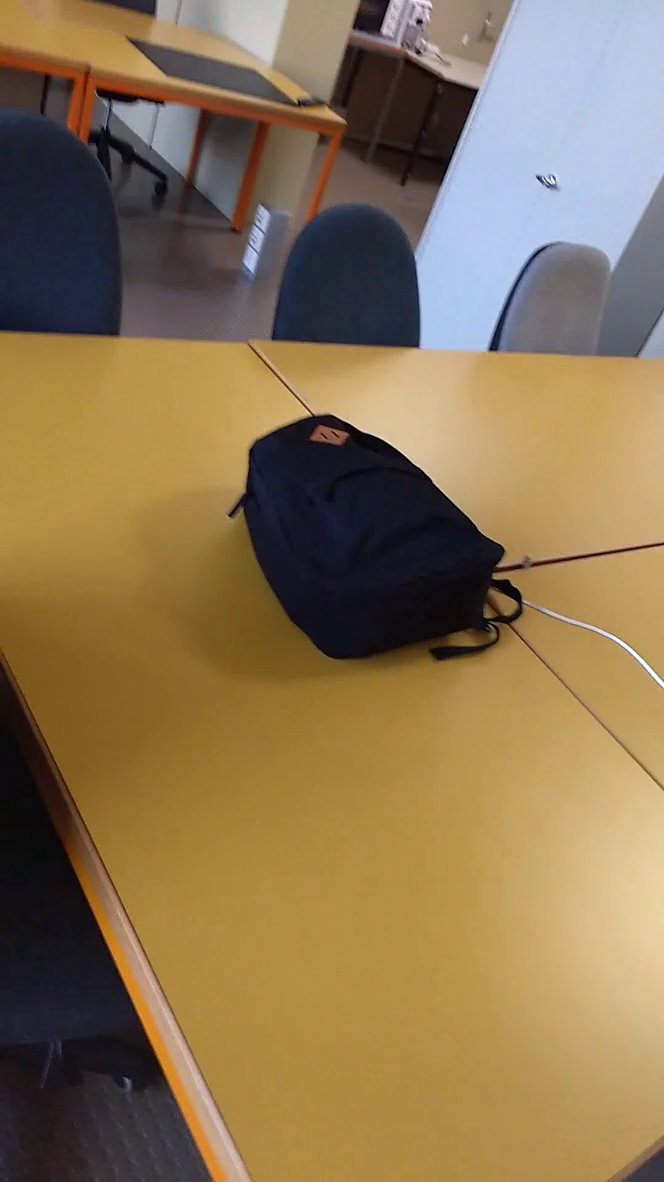bag: (220, 405, 546, 687)
chair: (1, 95, 137, 373), (262, 192, 443, 350), (474, 229, 621, 364)
